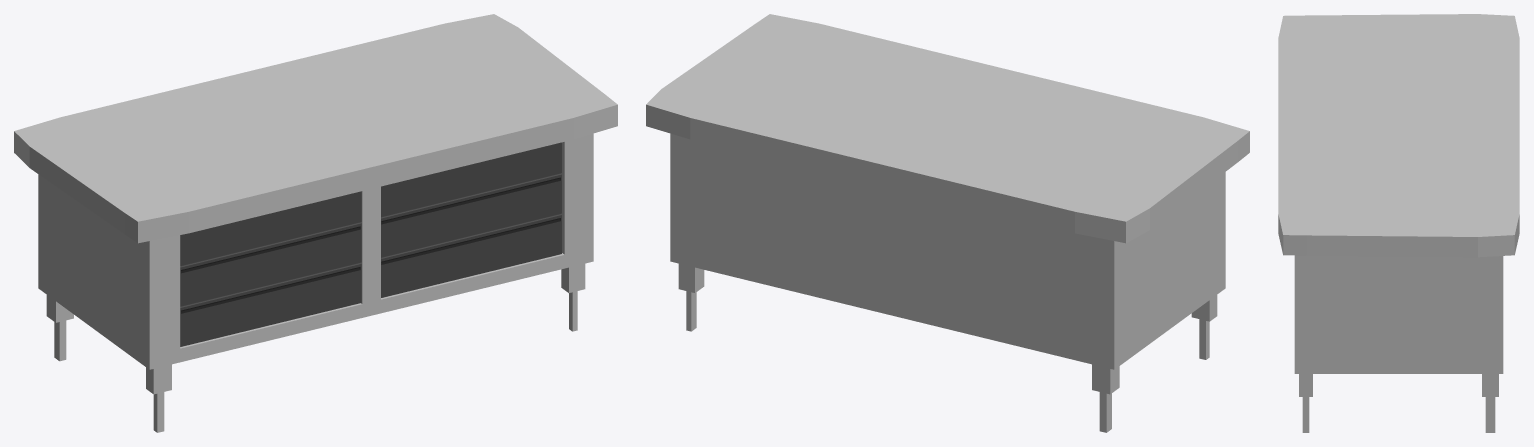
The model's file is MC_6DrawersWorkStation.fbx.
3 renders of one model, left to right at view 1: azimuth 30°, elevation 25°; view 2: azimuth 150°, elevation 25°; view 3: azimuth 270°, elevation 25°, orthographic. The views are drawn at different scales.
Parts seen in each view (by area): view 1: 6DrawerTable, Drawer5, Drawer4, Drawer, Drawer2, Drawer6, Drawer3; view 2: 6DrawerTable; view 3: 6DrawerTable.
Boxes of the visible parts, x1,y1,x2,y2 form: 6DrawerTable: [14, 14, 617, 432]; Drawer5: [180, 222, 361, 306]; Drawer4: [180, 263, 361, 346]; Drawer: [381, 214, 561, 297]; Drawer2: [381, 173, 561, 257]; Drawer6: [180, 191, 361, 265]; Drawer3: [381, 142, 561, 216]; 6DrawerTable: [646, 14, 1249, 432]; 6DrawerTable: [1278, 14, 1519, 432].
Size of the model in its own units: 134 by 59.09 by 61.07.
